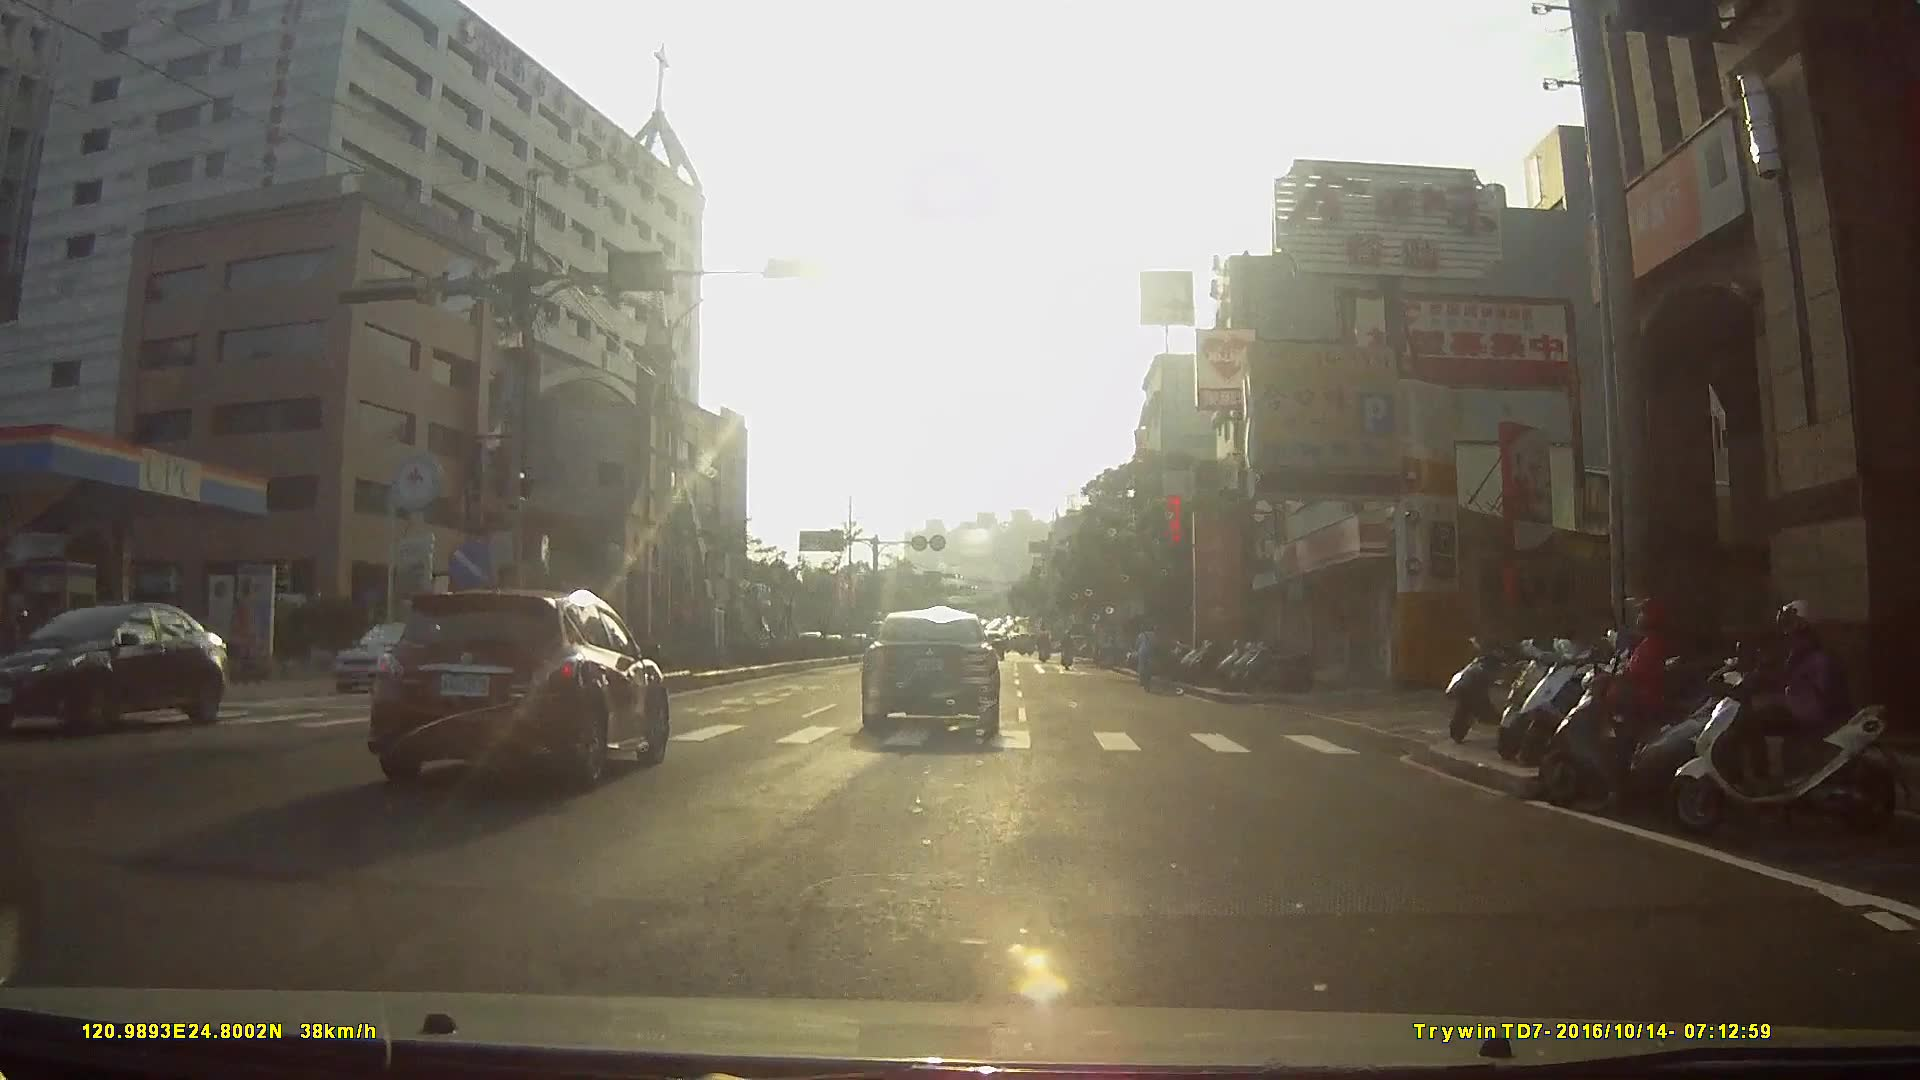rider: (1659, 592, 1908, 845), (1534, 588, 1770, 824), (1131, 622, 1160, 695)
vehicle: (373, 575, 681, 797), (5, 593, 236, 736), (856, 607, 1015, 738), (763, 607, 822, 662)
